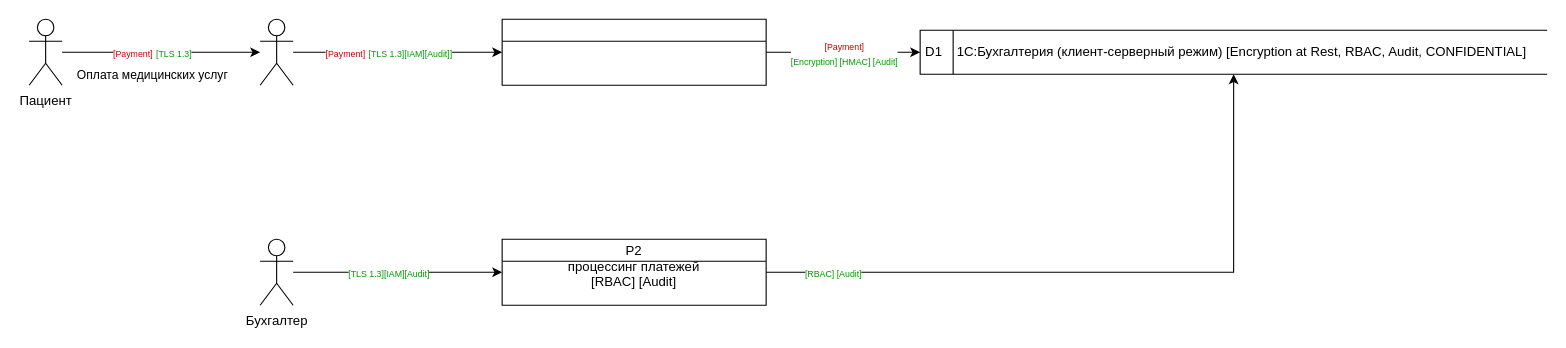
The diagram is 1566 pixels wide and 348 high, and some of its shapes have lost their labels. The shapes that lost their labels are listed below. From the top down, each one's centre as x and y in pixels, then its label:
At point 276,51: "Кассир".
At point 633,51: "P1 передача платежных данных в ККМ [TLS 1.3] [Audit] [RBAC]".
